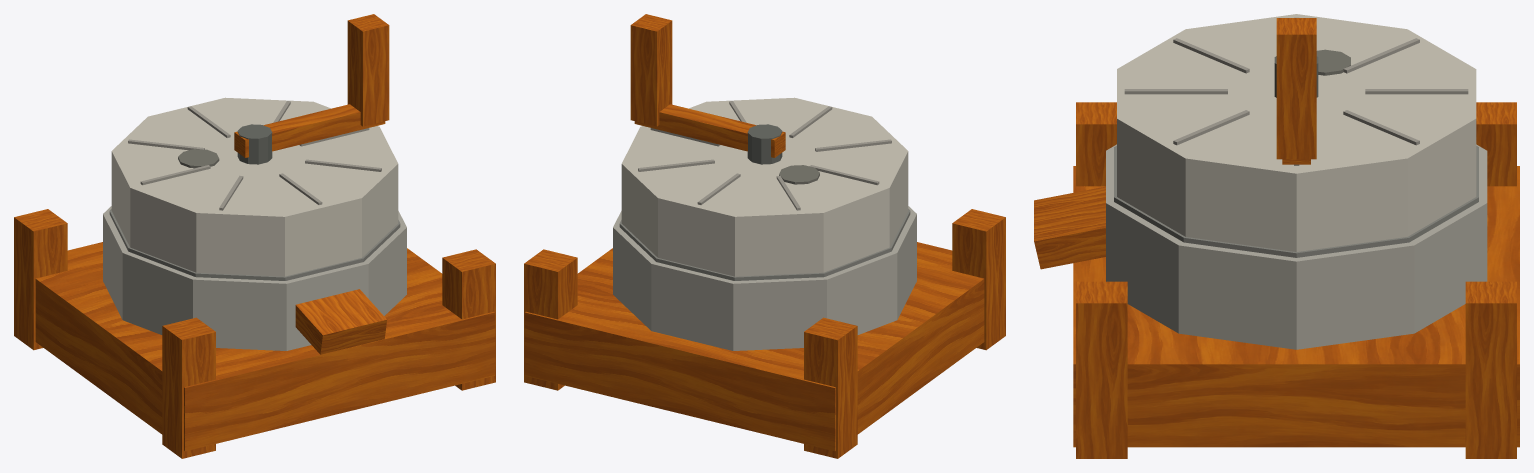
File: stone-mill.gltf
3 views of the same model, side by side, from view 1: azimuth 30°, elevation 25°; view 2: azimuth 150°, elevation 25°; view 3: azimuth 270°, elevation 25° (orthographic). The views are drawn at different scales.
Visible parts, largest first — view 1: stone-mill; view 2: stone-mill; view 3: stone-mill.
Part boxes in pixels (x1,y1,x2,y2): stone-mill: (14, 14, 495, 458); stone-mill: (524, 14, 1005, 458); stone-mill: (1034, 14, 1519, 458).
Bounding box in the file's own units: 0.83 × 0.78 × 0.8484.
Materials: 2 (1 with a texture image).
